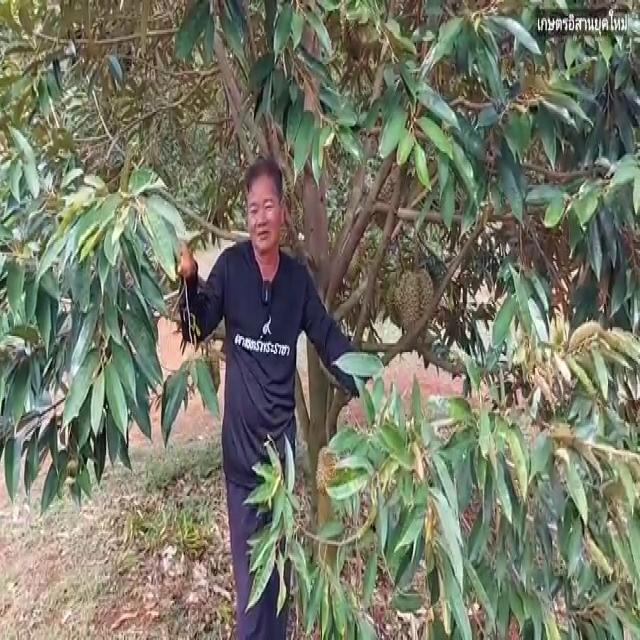durian: (393, 258, 441, 339)
